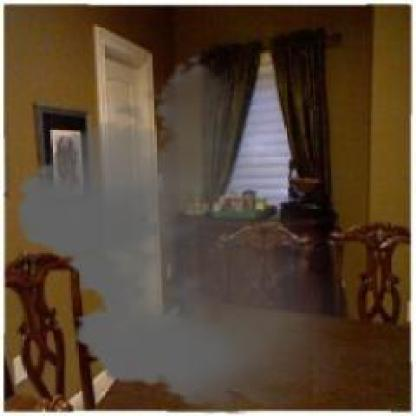Smoke: (3, 54, 366, 414)
